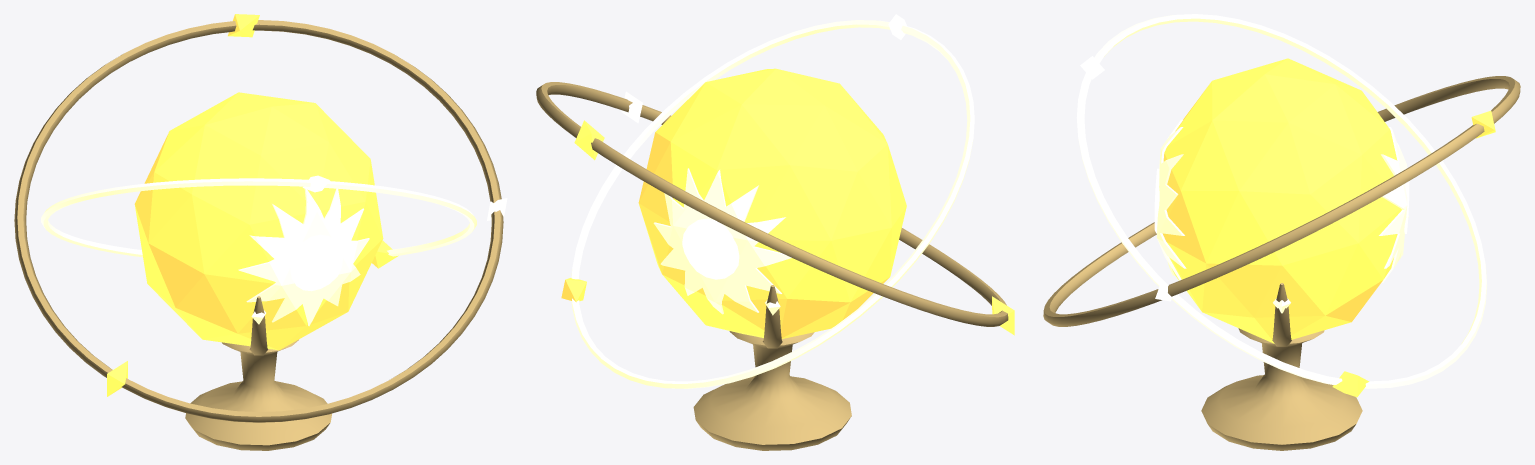
The model's file is sol_orbital.glb.
3 renders of one model, left to right at view 1: azimuth 30°, elevation 25°; view 2: azimuth 150°, elevation 25°; view 3: azimuth 270°, elevation 25°, orthographic. The views are drawn at different scales.
Parts seen in each view (by area): view 1: sol_orbital; view 2: sol_orbital; view 3: sol_orbital.
Boxes of the visible parts, x1,y1,x2,y2 form: sol_orbital: [14, 14, 507, 450]; sol_orbital: [536, 14, 1014, 450]; sol_orbital: [1043, 14, 1520, 450].
Bounding box in the file's own units: 0.315 × 0.2359 × 0.2923.
